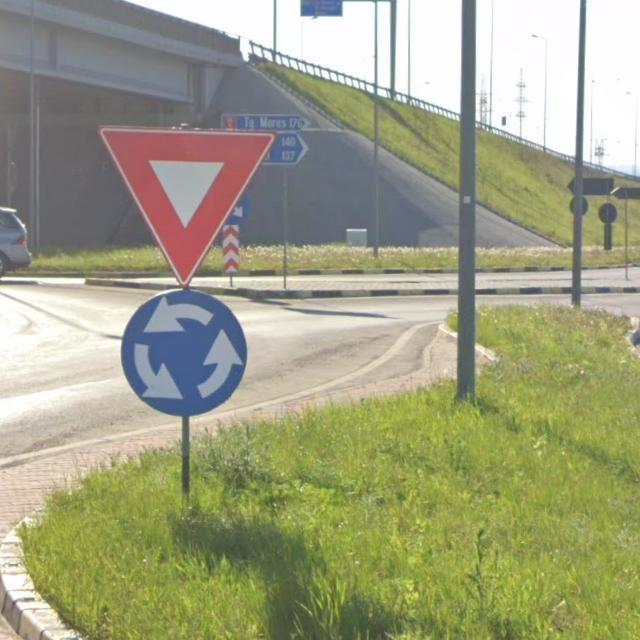prio_give_way: (96, 125, 274, 284)
